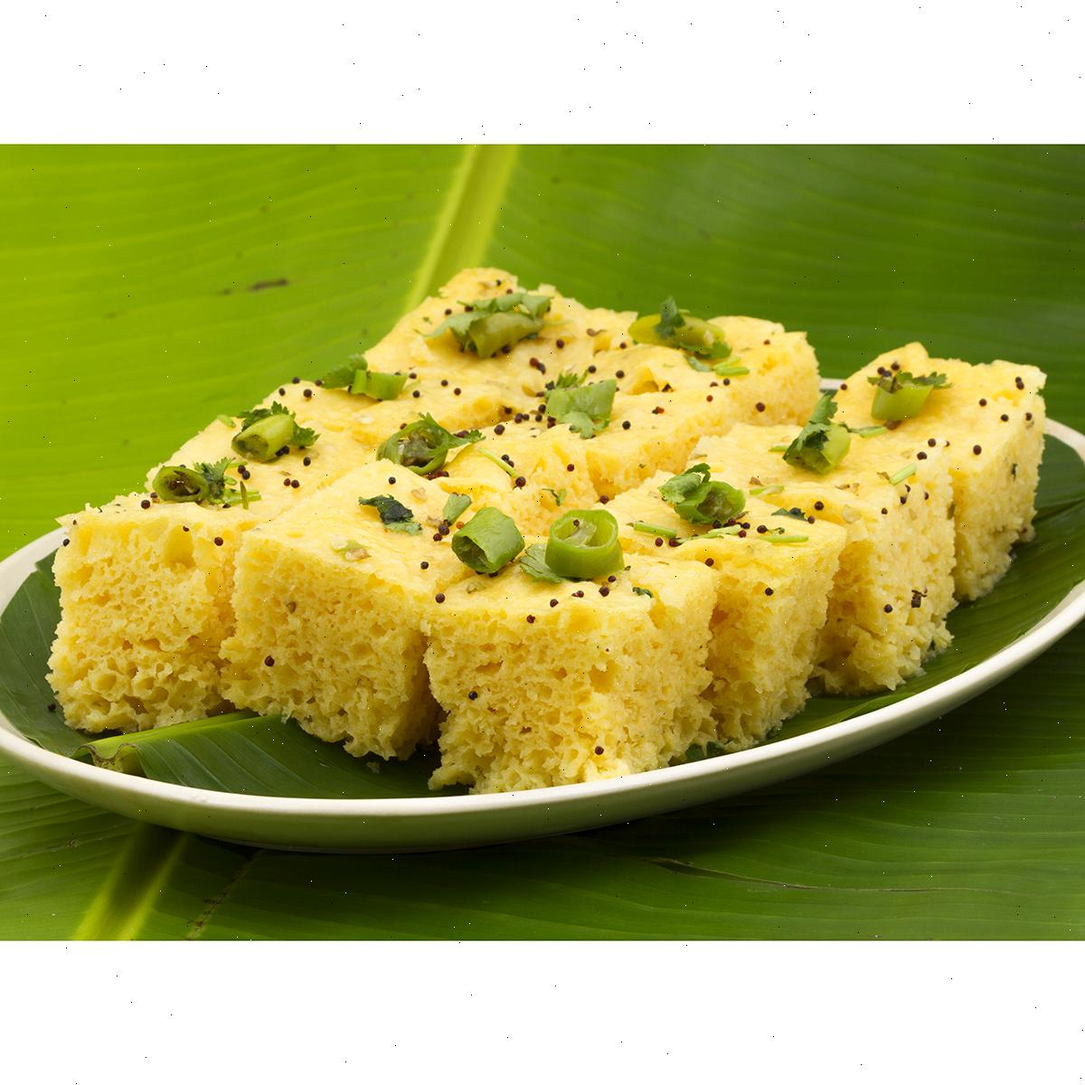yellow dhokla: (51, 258, 1048, 790)
